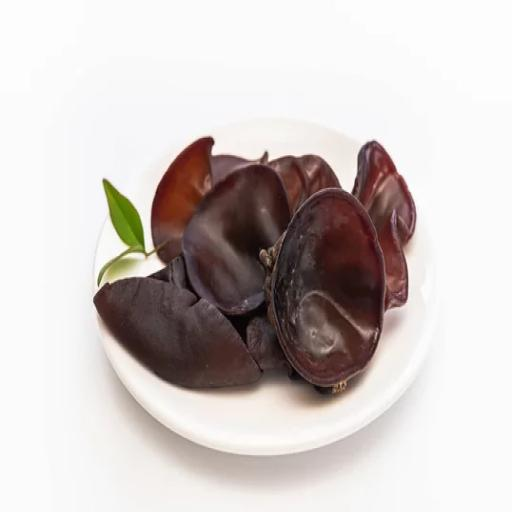Wood Ear Mushroom: (92, 139, 411, 402)
